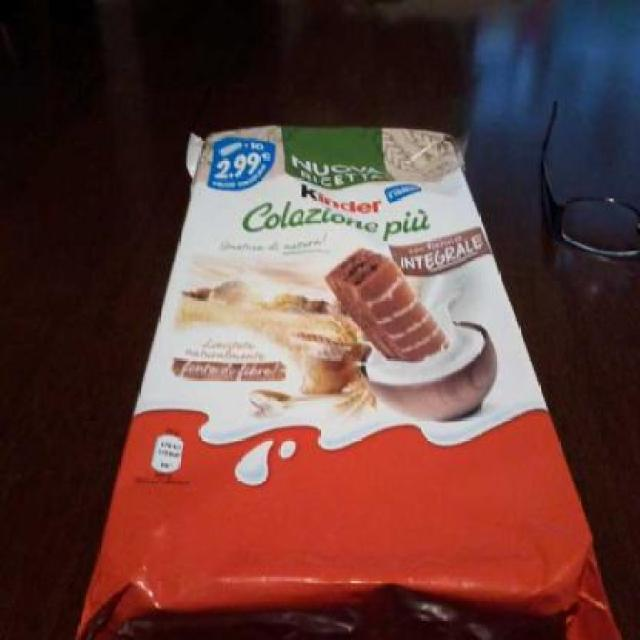Merendine: (78, 116, 620, 638)
